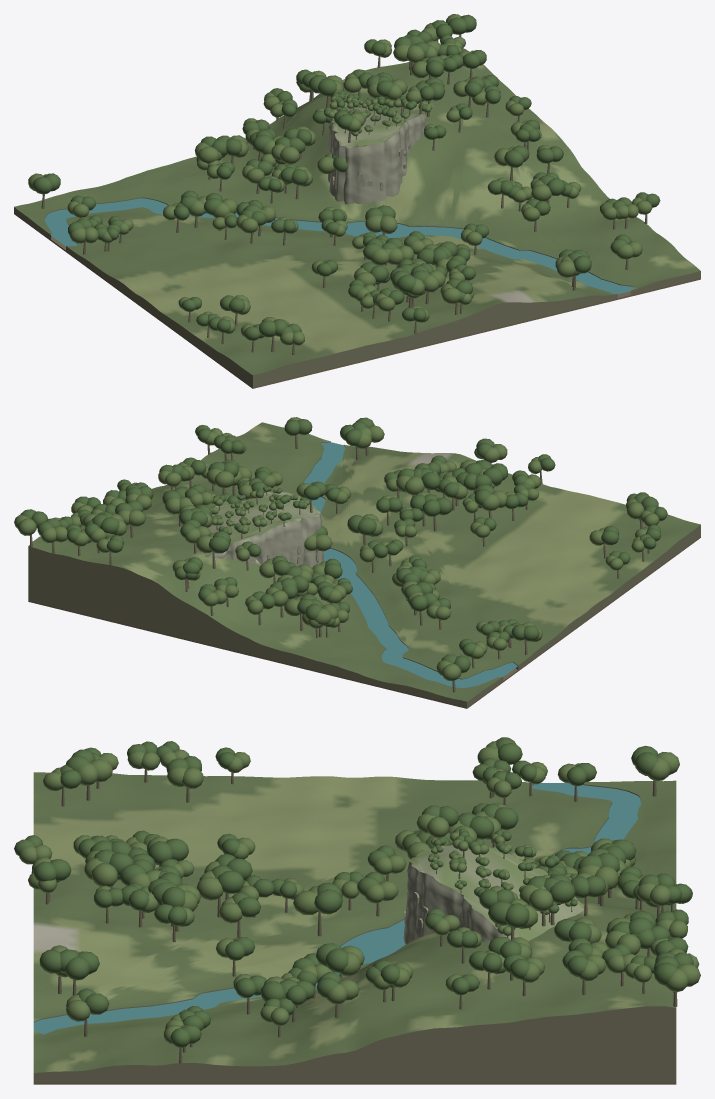
Rendered from gms-52.glb.
3 views of the same model, one above another, from view 1: azimuth 30°, elevation 25°; view 2: azimuth 150°, elevation 25°; view 3: azimuth 270°, elevation 25° (orthographic). The views are drawn at different scales.
Visible parts, largest first — view 1: GMS-52 - estudio del paisaje, Pared continua — contrafuertes y juntas no periódicas, Corona pétrea baja, quebrada y sin tapa plana; view 2: GMS-52 - estudio del paisaje, Pared continua — contrafuertes y juntas no periódicas, Corona pétrea baja, quebrada y sin tapa plana; view 3: GMS-52 - estudio del paisaje, Corona pétrea baja, quebrada y sin tapa plana, Pared continua — contrafuertes y juntas no periódicas.
Part boxes in pixels (left/top/right/bottom): GMS-52 - estudio del paisaje: left=14, top=14, right=700, bottom=388; Pared continua — contrafuertes y juntas no periódicas: left=328, top=114, right=426, bottom=204; Corona pétrea baja, quebrada y sin tapa plana: left=332, top=107, right=423, bottom=148; GMS-52 - estudio del paisaje: left=14, top=417, right=700, bottom=708; Pared continua — contrafuertes y juntas no periódicas: left=207, top=513, right=324, bottom=567; Corona pétrea baja, quebrada y sin tapa plana: left=179, top=492, right=320, bottom=557; GMS-52 - estudio del paisaje: left=14, top=737, right=700, bottom=1084; Corona pétrea baja, quebrada y sin tapa plana: left=409, top=845, right=584, bottom=941; Pared continua — contrafuertes y juntas no periódicas: left=403, top=861, right=510, bottom=944.
Size of the model in its own units: 12.62 by 2.72 by 11.84.
